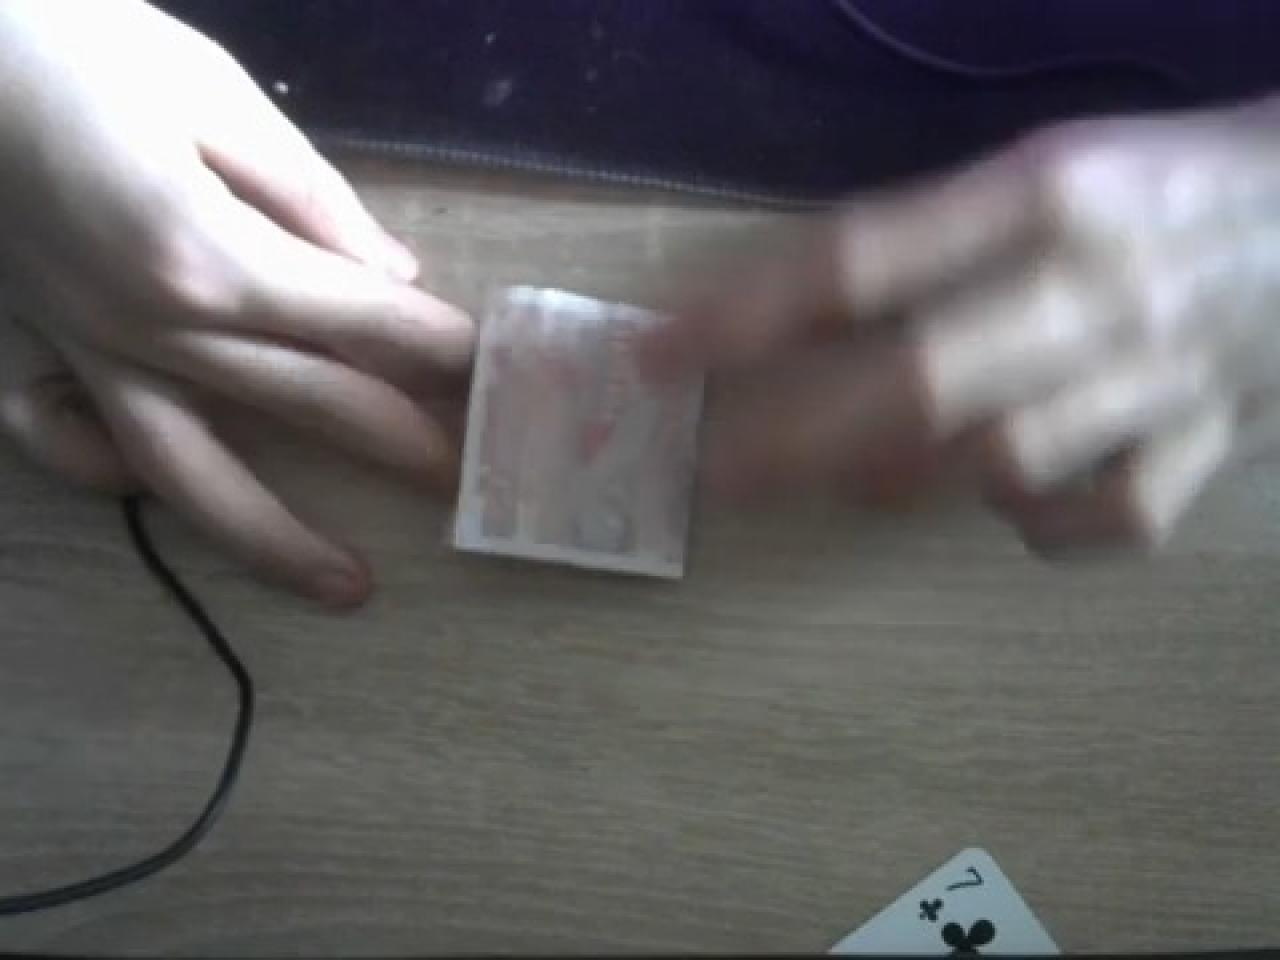5leva: (445, 285, 707, 584)
